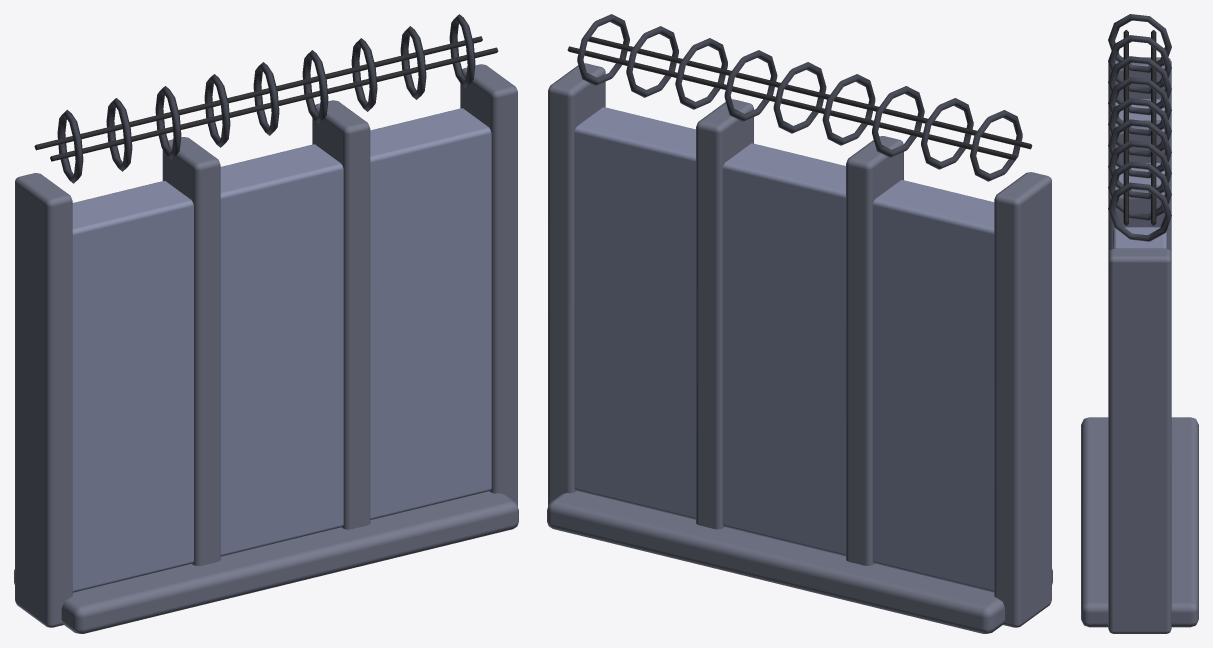
Rendered from muro.glb.
3 renders of one model, left to right at view 1: azimuth 30°, elevation 25°; view 2: azimuth 150°, elevation 25°; view 3: azimuth 270°, elevation 25°, orthographic. The views are drawn at different scales.
Visible parts, largest first — view 1: modelo; view 2: modelo; view 3: modelo.
Boxes of the visible parts, x1,y1,x2,y2 form: modelo: (14,14,518,633); modelo: (547,14,1052,633); modelo: (1081,14,1198,633).
Bounding box in the file's own units: 1.75 × 1.75 × 0.4292.
